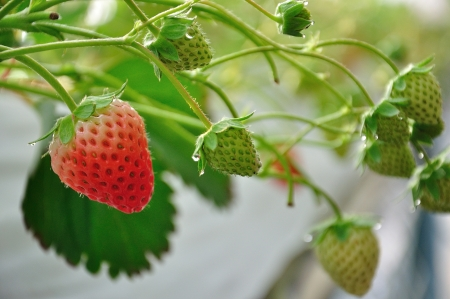ripe: (50, 95, 154, 216)
unripe: (313, 211, 380, 293), (198, 116, 265, 180), (143, 16, 213, 73), (388, 63, 440, 125), (357, 130, 414, 181), (409, 155, 447, 217), (366, 96, 410, 146), (273, 11, 312, 38)
